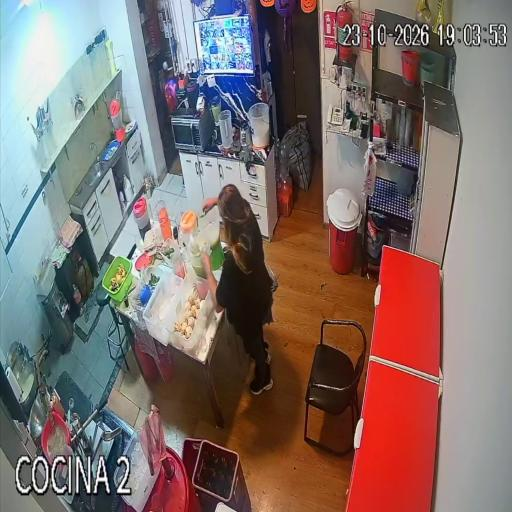Envase Llajua: (47, 395, 64, 417)
Jarra1: (133, 197, 150, 241)
Jarra2: (179, 210, 197, 244)
Jarra3: (219, 110, 233, 149)
Microondas: (170, 111, 209, 152)
Persona3: (203, 185, 273, 394)
Taper2: (130, 272, 154, 312)
Taper3: (143, 272, 183, 345)
Taper4: (163, 274, 214, 359)
